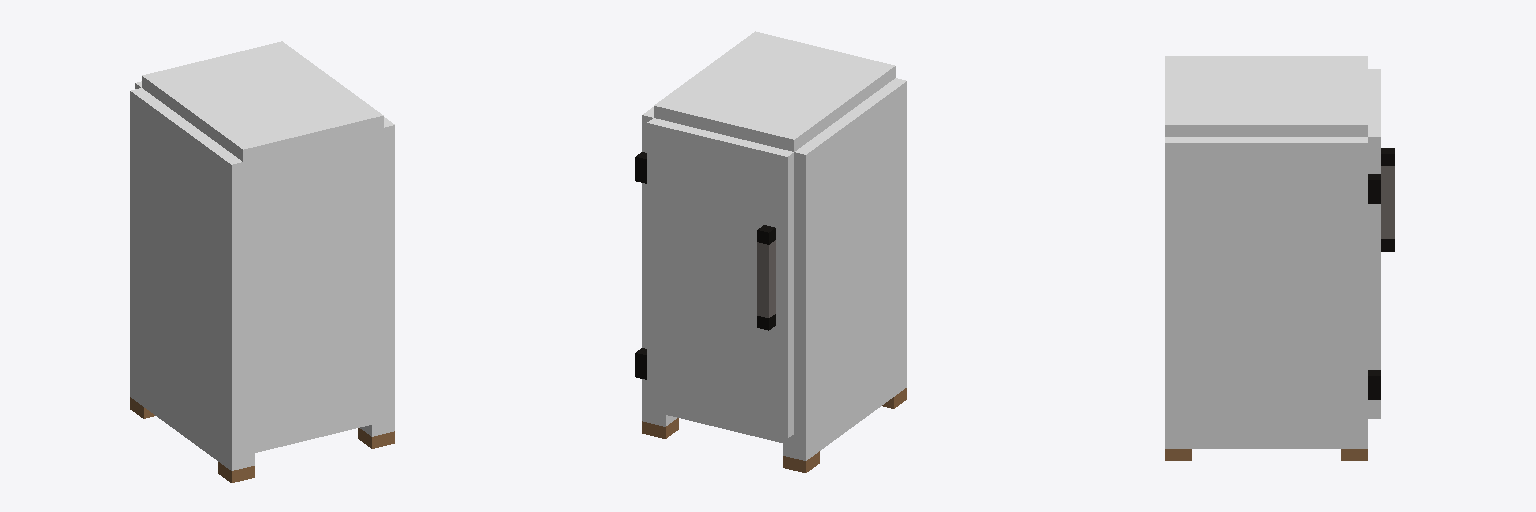
3 views of the same model, side by side, from view 1: azimuth 30°, elevation 25°; view 2: azimuth 150°, elevation 25°; view 3: azimuth 270°, elevation 25° (orthographic).
Parts seen in each view (by area): view 1: Model; view 2: Model; view 3: Model.
Boxes of the visible parts, <box> form: Model: <box>130,41,394,482</box>; Model: <box>635,31,906,472</box>; Model: <box>1165,56,1394,460</box>.
Bounding box in the file's own units: 16.59 × 32 × 20.15.
1 materials, 1 textured.